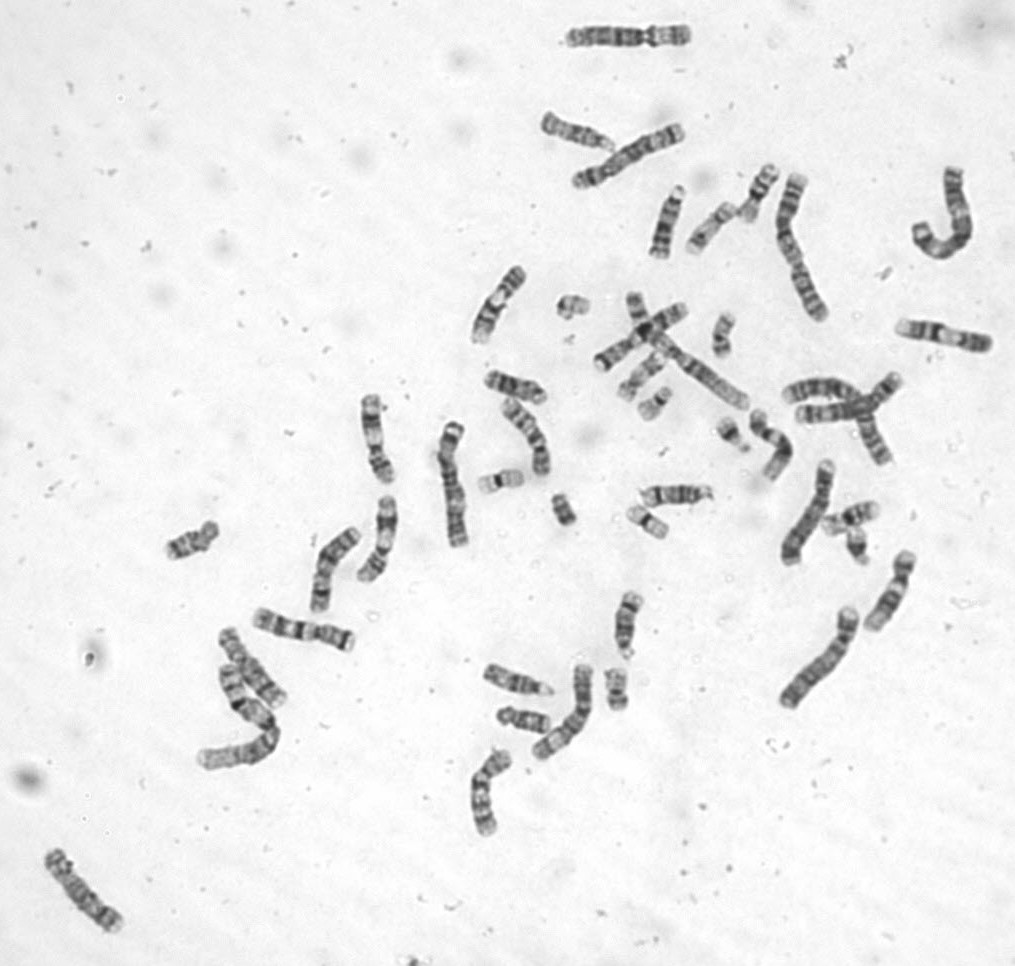chromosomes: (625, 285, 754, 410), (191, 661, 283, 785), (783, 378, 894, 473), (560, 120, 689, 198), (775, 168, 834, 331), (776, 606, 863, 714), (39, 842, 129, 941), (788, 367, 910, 435), (589, 298, 693, 375), (775, 458, 841, 573), (530, 660, 600, 762), (216, 624, 295, 710), (910, 166, 978, 263), (432, 411, 478, 552), (248, 603, 361, 659), (304, 525, 367, 618), (467, 264, 530, 351), (863, 549, 923, 636), (496, 396, 555, 483), (353, 488, 401, 589), (892, 315, 997, 361), (467, 745, 513, 841), (559, 22, 705, 52), (746, 404, 796, 490), (537, 107, 618, 158), (355, 390, 399, 483), (157, 516, 227, 565), (614, 347, 672, 406), (482, 663, 563, 704), (650, 184, 691, 265), (738, 164, 785, 228), (478, 367, 553, 407), (687, 200, 742, 254), (610, 587, 644, 668), (818, 501, 890, 537), (637, 481, 718, 510), (622, 500, 673, 540), (714, 414, 759, 458), (631, 384, 673, 425), (604, 664, 635, 719), (477, 468, 528, 501), (847, 523, 878, 577), (710, 307, 739, 362), (496, 708, 556, 734), (553, 294, 596, 324), (548, 491, 578, 529)
